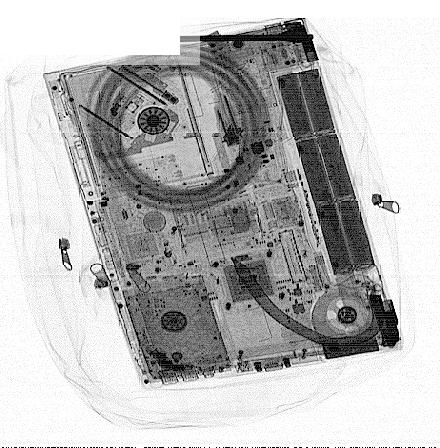Wrench: (179, 31, 316, 44)
